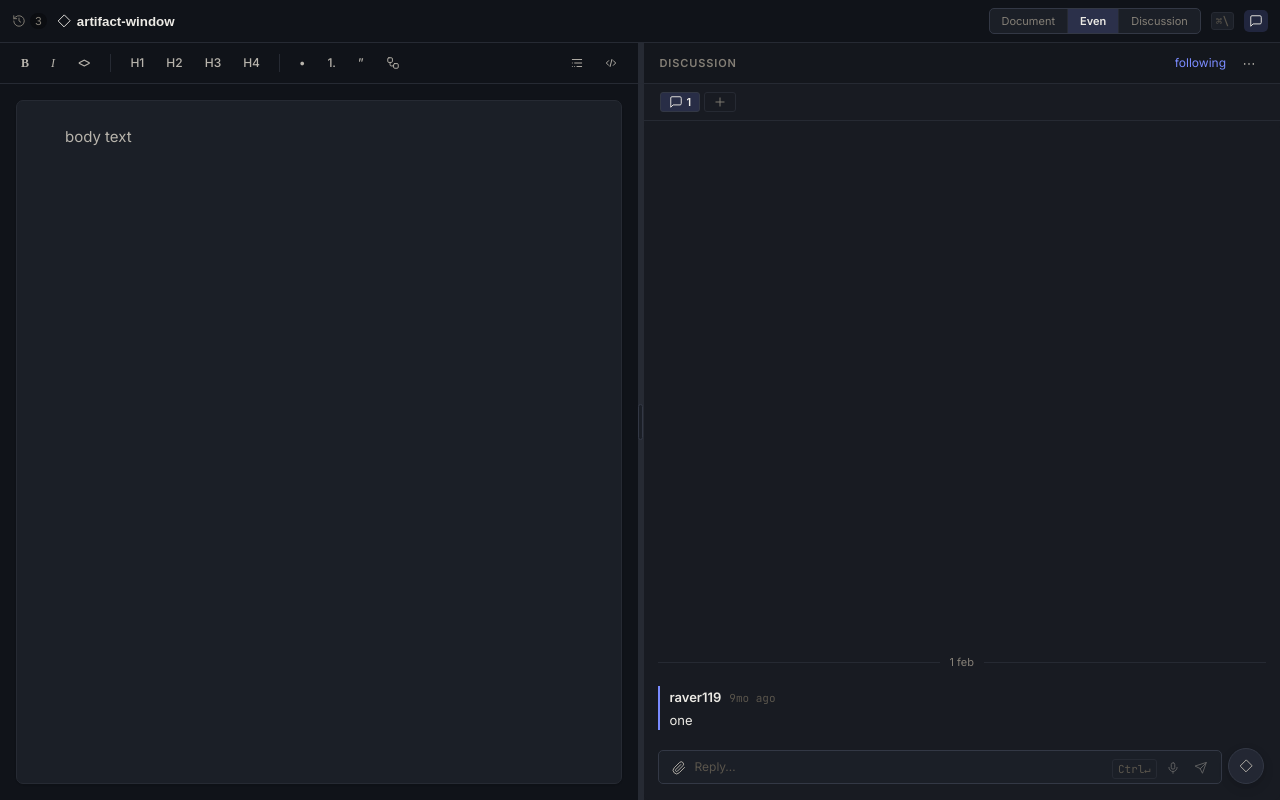
it: New Artifact discussions (NAW-FR-31 … NAW-FR-34, CMT-FR-52 … CMT-FR-55) › CMT-FR-17, CMT-FR-56, DDS-FR-DPRJ: resolving the last discussion leaves it reachable and says nothing about following
Click the button named "Thread actions for disc-1".
click(1249, 63)  # box [1234,49,1264,77]
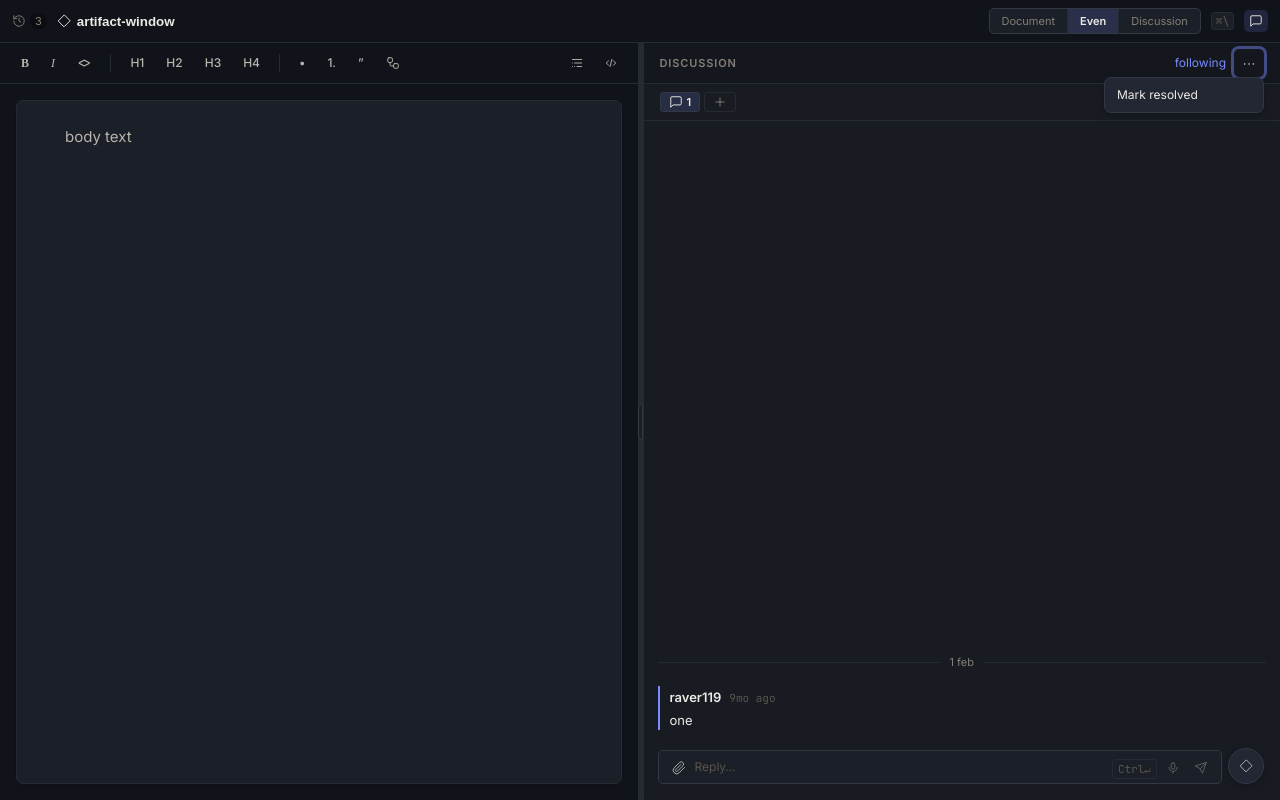
Click the menu item "Mark resolved".
click(1184, 95)  # box [1109,82,1259,108]
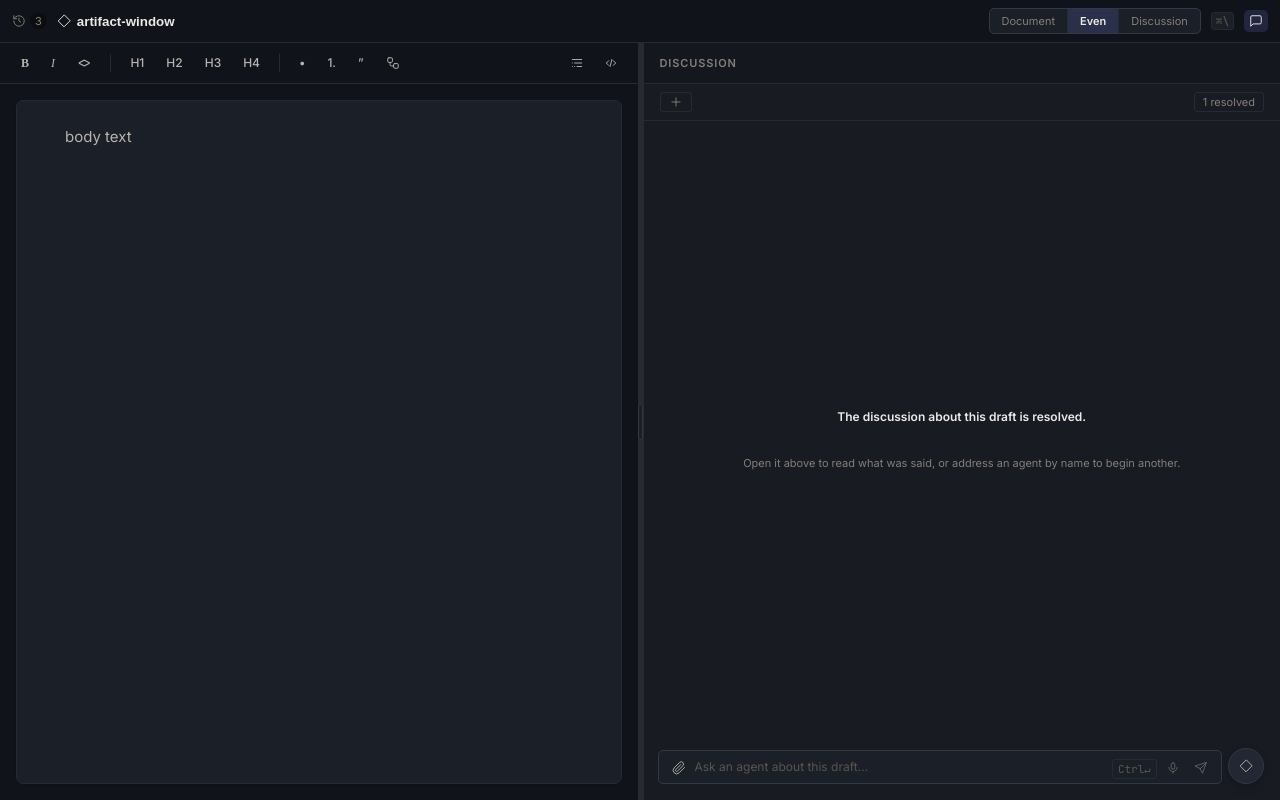
Result: the message with test id "discussion-follow-state" is gone
Click the button "1 resolved".
click(1229, 102)  # box [1194,92,1264,112]
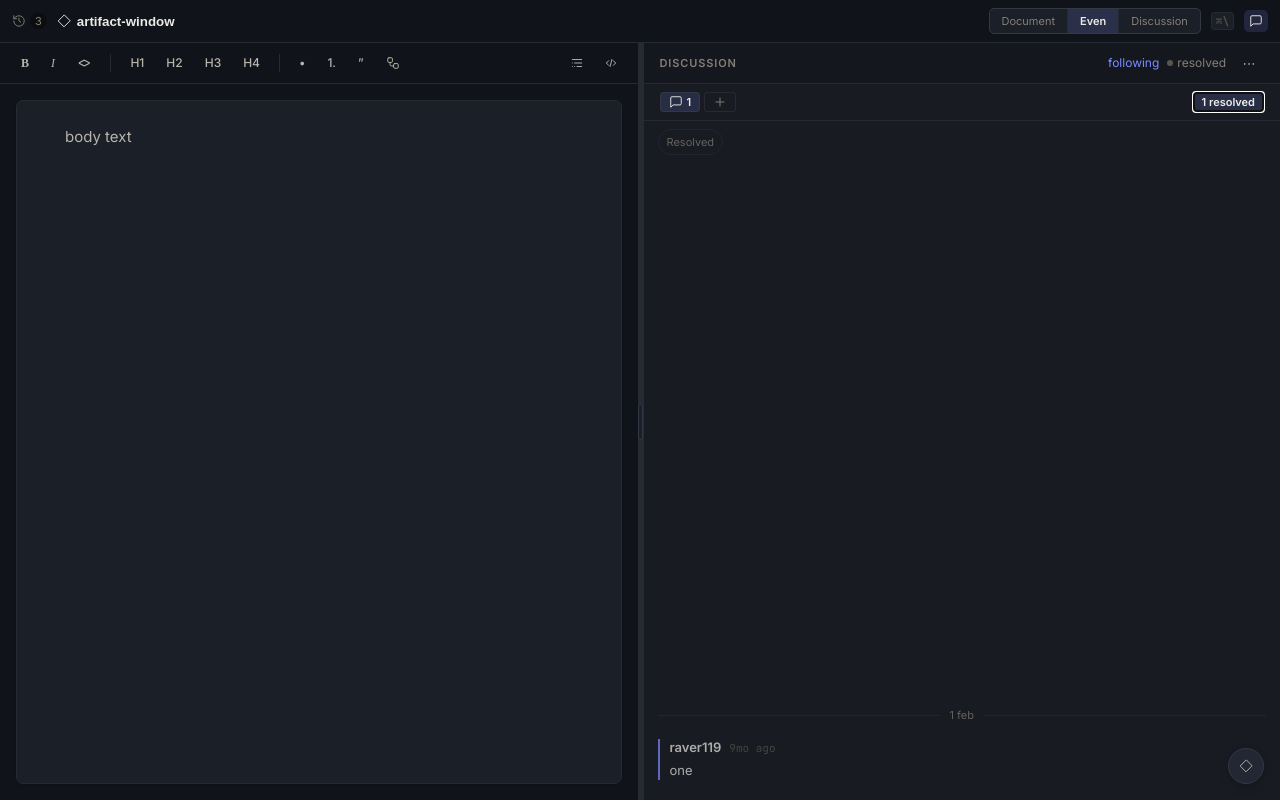
Result: the message with test id "discussion-follow-state" reads "following" at [1108,55,1159,70]
Result: the element with test id "comment-thread-disc-1" is shown at [644,121,1279,799]
